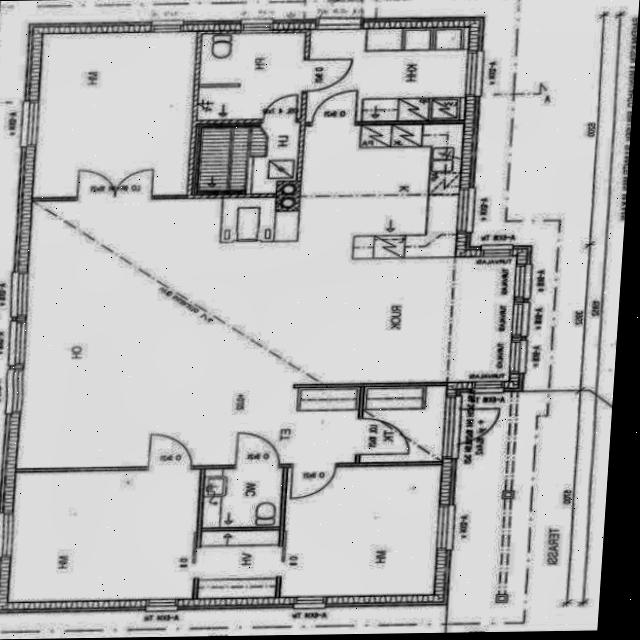room: (33, 22, 197, 206), (6, 470, 202, 600), (279, 466, 443, 595), (305, 28, 470, 120), (197, 32, 307, 119), (196, 122, 300, 193), (360, 386, 446, 461), (196, 529, 280, 596), (201, 467, 282, 526)
